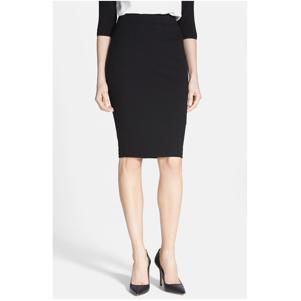F_tailored skirt: (102, 9, 201, 166)
